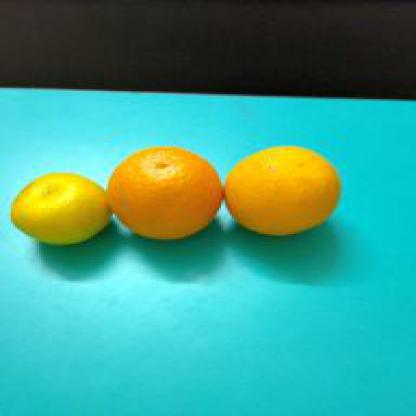orange: (225, 143, 347, 241), (106, 143, 223, 242), (6, 172, 112, 247)
